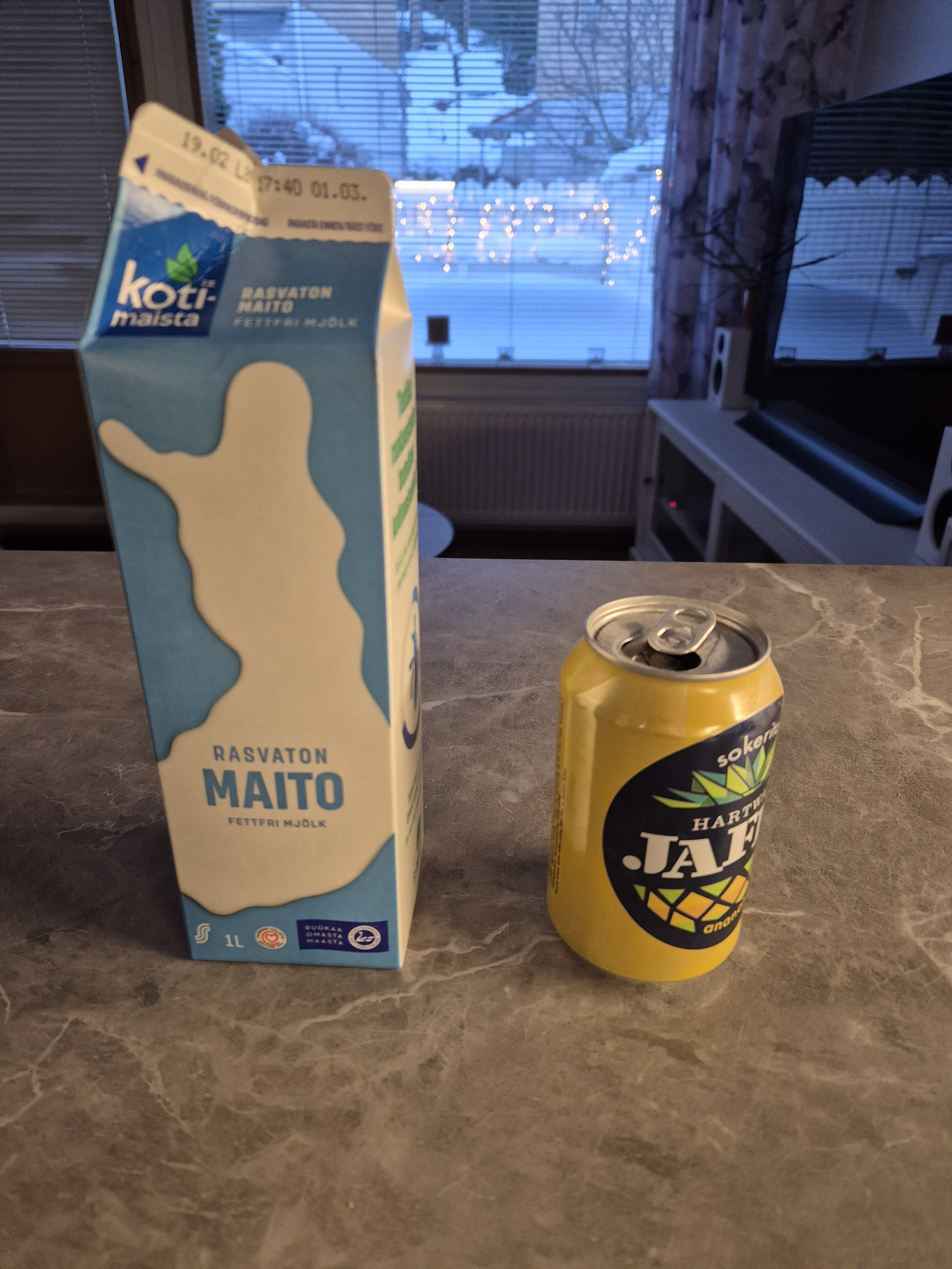Dryckeskartong: (72, 100, 429, 969)
Pantburk: (544, 593, 785, 986)
